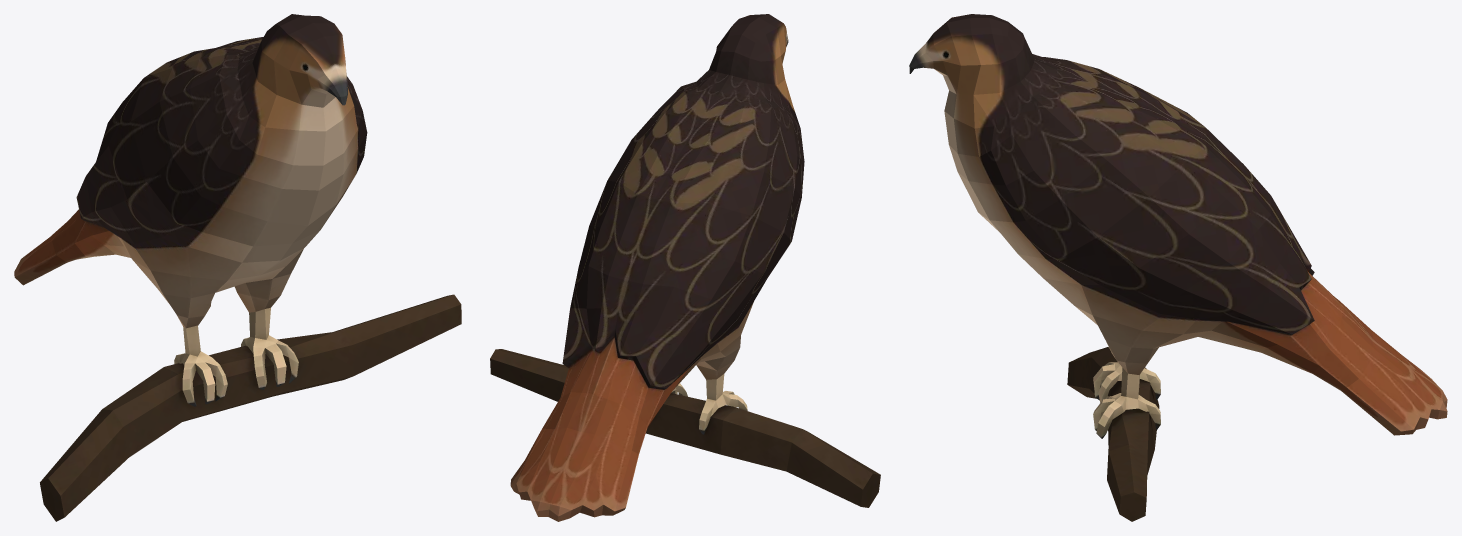
File: 9adZAZ2BmGL.glb
3 views of the same model, side by side, from view 1: azimuth 30°, elevation 25°; view 2: azimuth 150°, elevation 25°; view 3: azimuth 270°, elevation 25° (orthographic). The views are drawn at different scales.
Parts seen in each view (by area): view 1: RedTailedHawk_Mesh; view 2: RedTailedHawk_Mesh; view 3: RedTailedHawk_Mesh.
Boxes of the visible parts, box(x1,y1,x2,y2) form: RedTailedHawk_Mesh: box(14, 14, 461, 521); RedTailedHawk_Mesh: box(490, 14, 880, 521); RedTailedHawk_Mesh: box(909, 14, 1447, 521).
Size of the model in its own units: 0.9049 by 1 by 1.04.
1 material, 1 textured.
